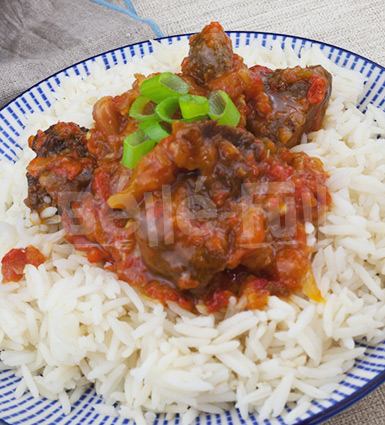plain rice: (13, 283, 385, 412), (316, 130, 385, 265)
